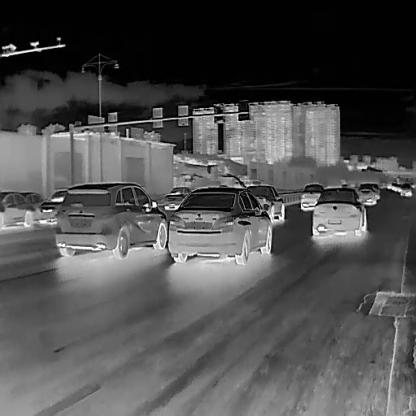car: (54, 182, 168, 258), (167, 186, 272, 262), (312, 184, 366, 238), (38, 186, 76, 224), (245, 183, 283, 220), (0, 190, 36, 228), (163, 185, 191, 208), (300, 182, 323, 210), (357, 182, 375, 204), (399, 184, 412, 196)
